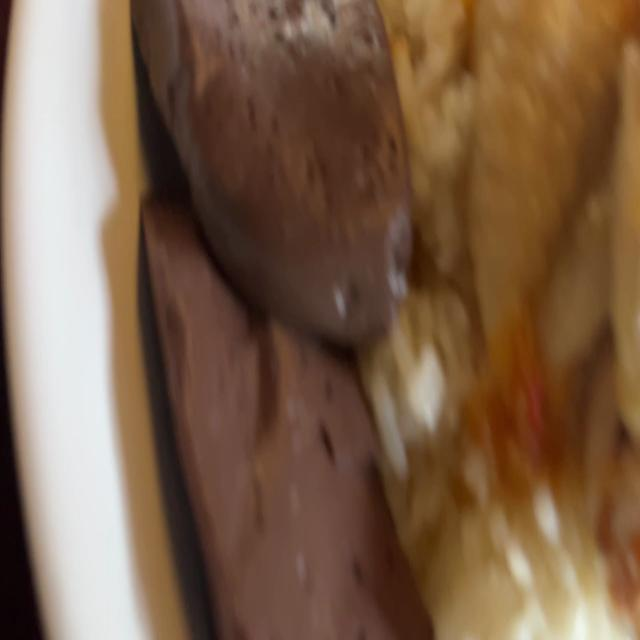boiled_chicken: (473, 4, 640, 524)
boiled_chicken_blood_jelly: (133, 180, 407, 640), (129, 0, 409, 331)
chicken_rice: (98, 0, 640, 640)
